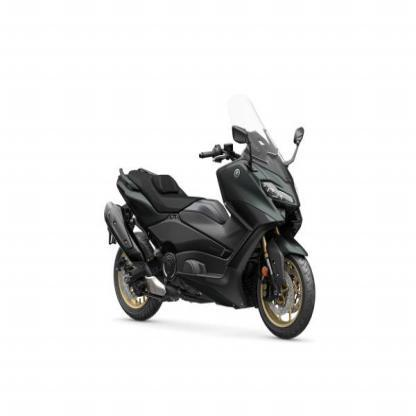Motorcycle: (96, 73, 327, 352)
